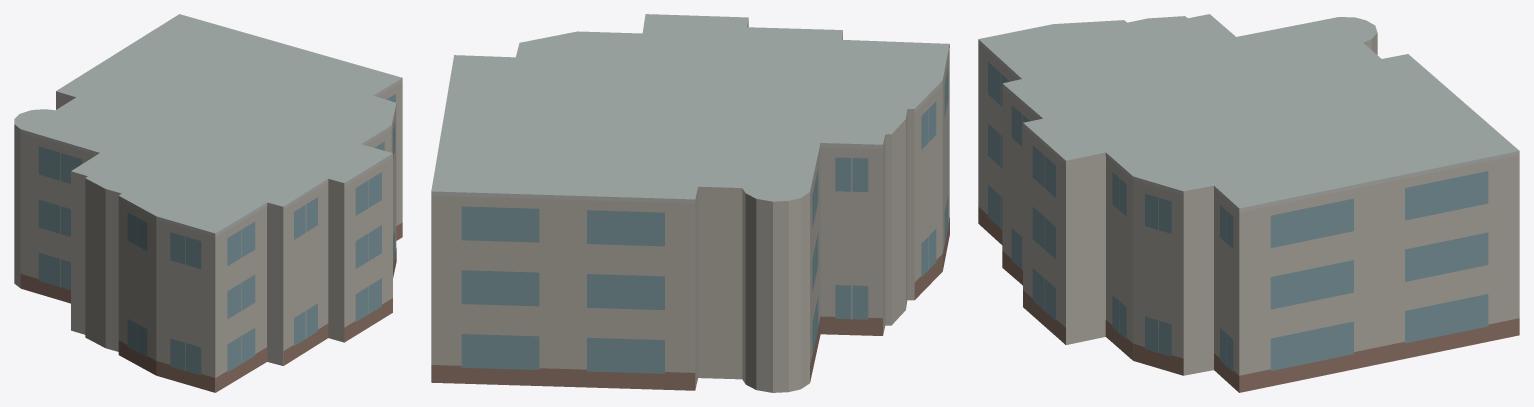
File: survey-upis-32501962.glb
3 views of the same model, side by side, from view 1: azimuth 30°, elevation 25°; view 2: azimuth 150°, elevation 25°; view 3: azimuth 270°, elevation 25° (orthographic). The views are drawn at different scales.
Visible parts, largest first — view 1: survey-upis-32501962.tmp; view 2: survey-upis-32501962.tmp; view 3: survey-upis-32501962.tmp.
Part boxes in pixels (x1=…): survey-upis-32501962.tmp: x1=14, y1=14, x2=402, y2=392; survey-upis-32501962.tmp: x1=431, y1=14, x2=949, y2=392; survey-upis-32501962.tmp: x1=978, y1=14, x2=1519, y2=392.
Size of the model in its own units: 25.35 by 11.2 by 29.81.
